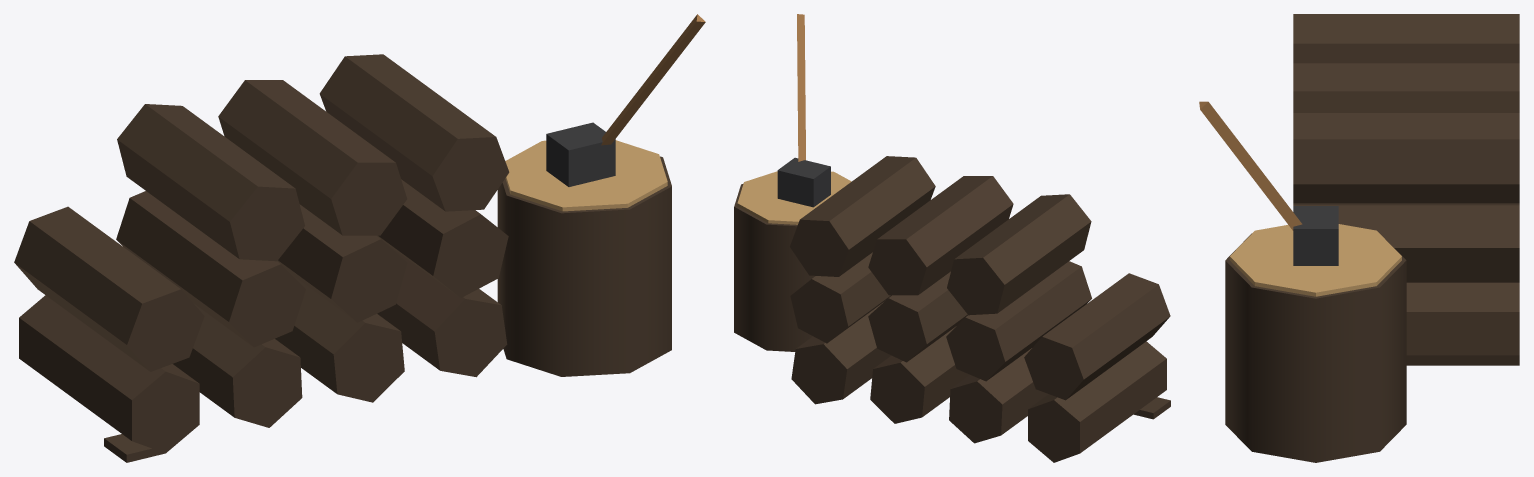
File: woodpile.glb
3 views of the same model, side by side, from view 1: azimuth 30°, elevation 25°; view 2: azimuth 150°, elevation 25°; view 3: azimuth 270°, elevation 25° (orthographic). The views are drawn at different scales.
Parts seen in each view (by area): view 1: woodpile; view 2: woodpile; view 3: woodpile.
Part boxes in pixels (box(x1,y1,x2,y2)): woodpile: box(14, 14, 705, 462); woodpile: box(734, 14, 1170, 462); woodpile: box(1199, 14, 1519, 462).
Bounding box in the file's own units: 1.4 × 0.8572 × 0.7075.
1 material, 1 textured.
